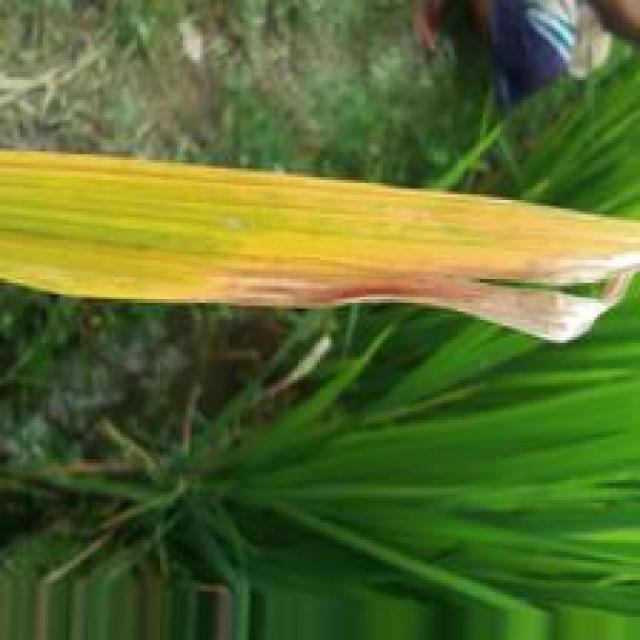Rice False Smut: (215, 268, 572, 345)
